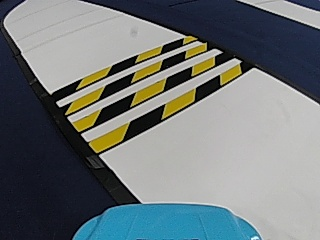bump: (63, 46, 200, 142)
